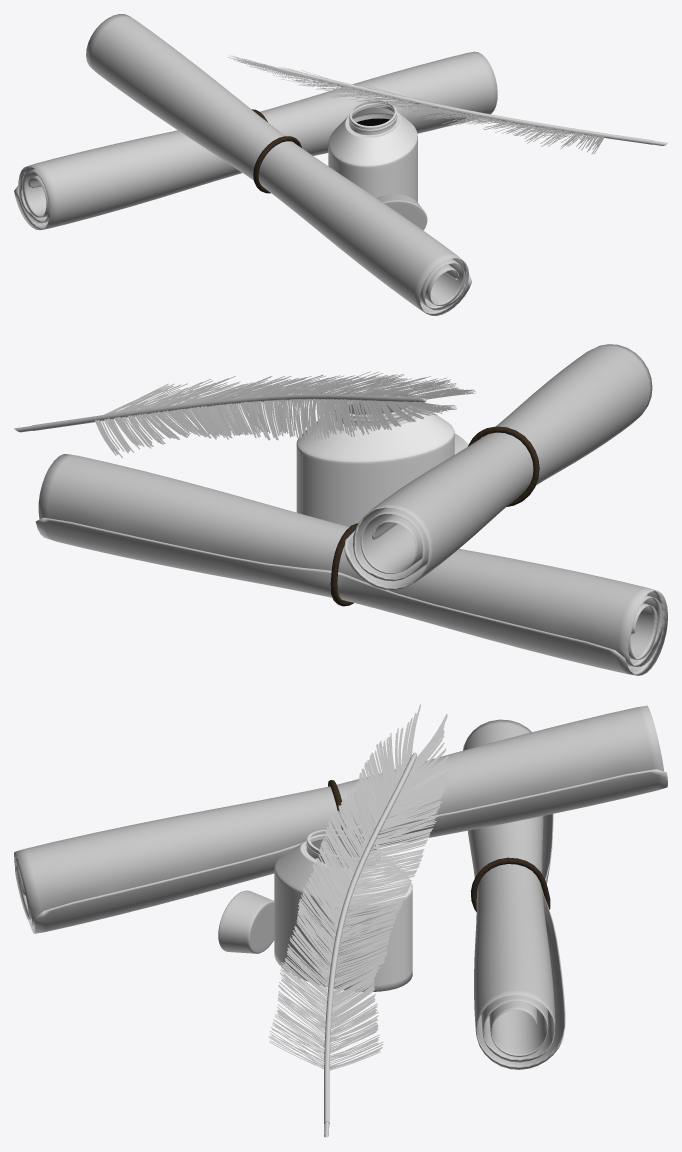
Rendered from Old Writing kit.fbx.
The picture shows the model from 3 angles, top to bottom: view 1: azimuth 30°, elevation 25°; view 2: azimuth 150°, elevation 25°; view 3: azimuth 270°, elevation 25°; orthographic projection. The views are drawn at different scales.
Visible parts, largest first — view 1: OBJ_Scroll (×2), OBJ_Frasco, OBJ_Pena_Cerdas, polySurface1, OBJ_Rolha, OBJ_Leather_Band; view 2: OBJ_Scroll (×2), OBJ_Pena_Cerdas, OBJ_Frasco, polySurface1, OBJ_Leather_Band (×2); view 3: OBJ_Scroll (×2), OBJ_Pena_Cerdas, OBJ_Frasco, OBJ_Rolha, polySurface1, OBJ_Leather_Band.
Boxes of the visible parts, x1=… form: OBJ_Scroll (×2): x1=14, y1=14, x2=497, y2=315; OBJ_Frasco: x1=328, y1=100, x2=417, y2=202; OBJ_Pena_Cerdas: x1=228, y1=54, x2=604, y2=154; polySurface1: x1=277, y1=67, x2=667, y2=145; OBJ_Rolha: x1=376, y1=194, x2=427, y2=230; OBJ_Leather_Band: x1=253, y1=136, x2=301, y2=193; OBJ_Scroll (×2): x1=35, y1=344, x2=667, y2=675; OBJ_Pena_Cerdas: x1=95, y1=371, x2=475, y2=458; OBJ_Frasco: x1=296, y1=390, x2=454, y2=526; polySurface1: x1=14, y1=394, x2=426, y2=432; OBJ_Leather_Band (×2): x1=330, y1=426, x2=539, y2=606; OBJ_Scroll (×2): x1=14, y1=705, x2=667, y2=1069; OBJ_Pena_Cerdas: x1=269, y1=704, x2=449, y2=1070; OBJ_Frasco: x1=274, y1=829, x2=412, y2=991; OBJ_Rolha: x1=218, y1=890, x2=274, y2=953; polySurface1: x1=324, y1=752, x2=416, y2=1137; OBJ_Leather_Band: x1=471, y1=857, x2=550, y2=911.
Bounding box in the file's own units: 3.91 × 1.04 × 3.15.
